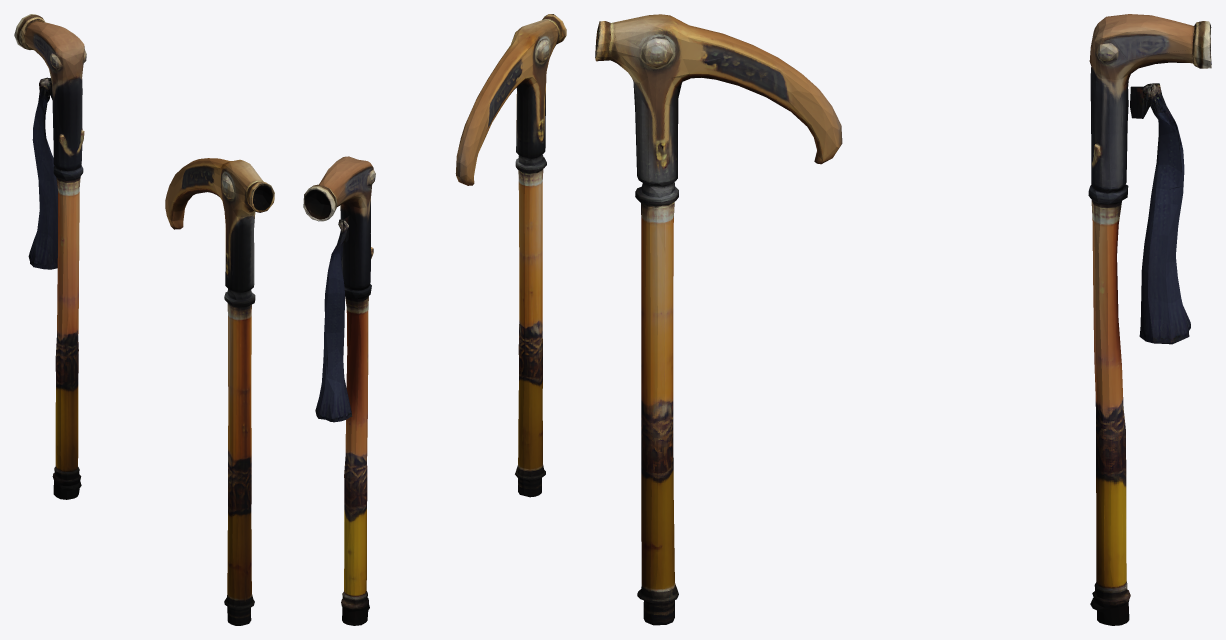
File: bamboo-trekking-poles-art-deco.jpeg.glb
3 views of the same model, side by side, from view 1: azimuth 30°, elevation 25°; view 2: azimuth 150°, elevation 25°; view 3: azimuth 270°, elevation 25° (orthographic). The views are drawn at different scales.
Visible parts, largest first — view 1: world; view 2: world; view 3: world.
Boxes of the visible parts, x1=… form: world: x1=14, y1=14, x2=274, y2=625; world: x1=303, y1=14, x2=566, y2=625; world: x1=595, y1=14, x2=1211, y2=625.
Size of the model in its own units: 0.0771 by 1 by 0.9318.
1 material, 1 textured.
